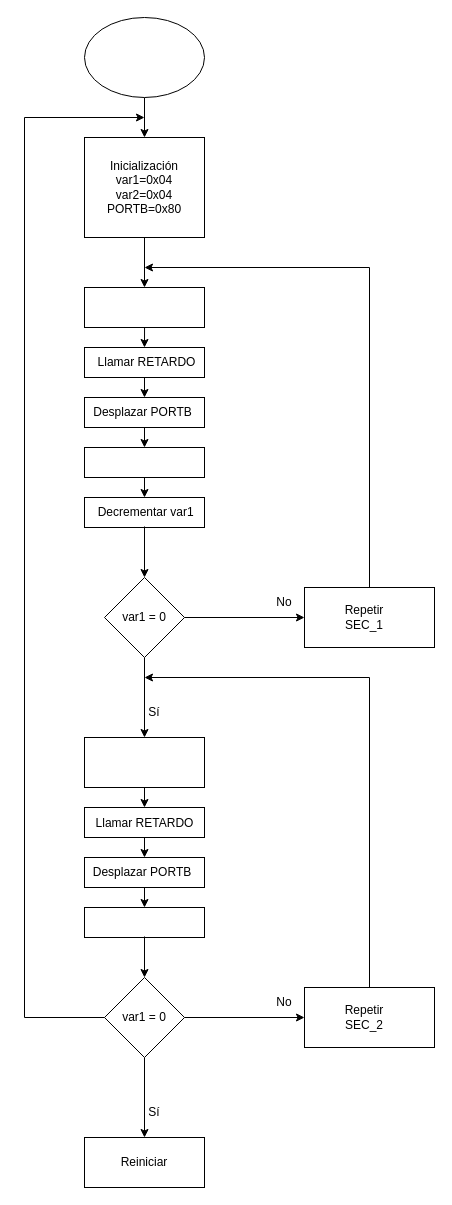
Image size: 452x1205. Some labels were removed from this diagram. Each missing label, with the centre of its shape:
"Activar bit 7" goes at point 144,462.
"Decrementar var2" goes at point 144,922.
"Inicio Configuración -OSSCON -TRISB -ANSELH" goes at point 144,57.
"Sección_1 (SEC_1)" goes at point 144,307.
"Sección_2 (SEC_2)" goes at point 144,762.
